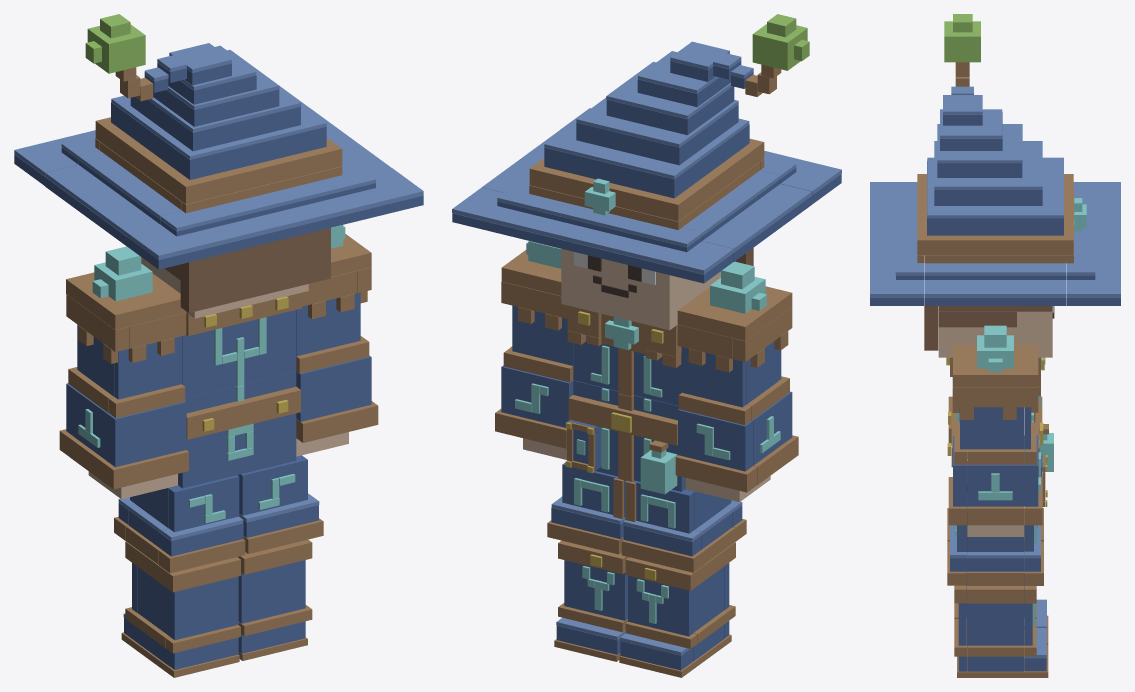
The model's file is arcanist_male_figure.glb.
The picture shows the model from 3 angles, left to right: view 1: azimuth 30°, elevation 25°; view 2: azimuth 150°, elevation 25°; view 3: azimuth 270°, elevation 25°; orthographic projection. The views are drawn at different scales.
Parts seen in each view (by area): view 1: ArcanistMale; view 2: ArcanistMale; view 3: ArcanistMale.
Boxes of the visible parts, x1,y1,x2,y2 form: ArcanistMale: (14,14,423,677); ArcanistMale: (452,14,841,677); ArcanistMale: (870,14,1120,677).
Bounding box in the file's own units: 3.19 × 7.26 × 2.85.
